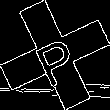P_NW: (28, 24, 82, 86)
